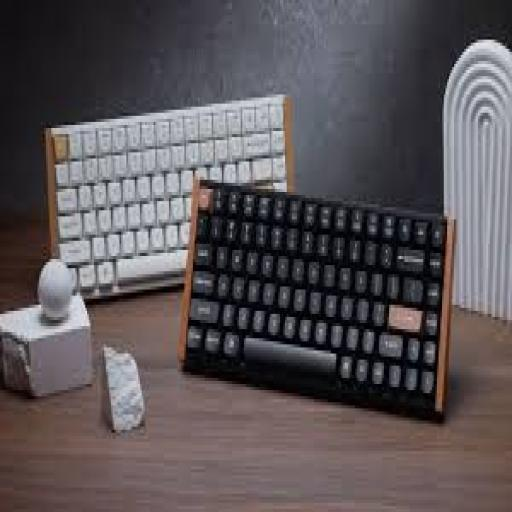keyboard: (183, 180, 454, 414), (46, 94, 292, 299)
